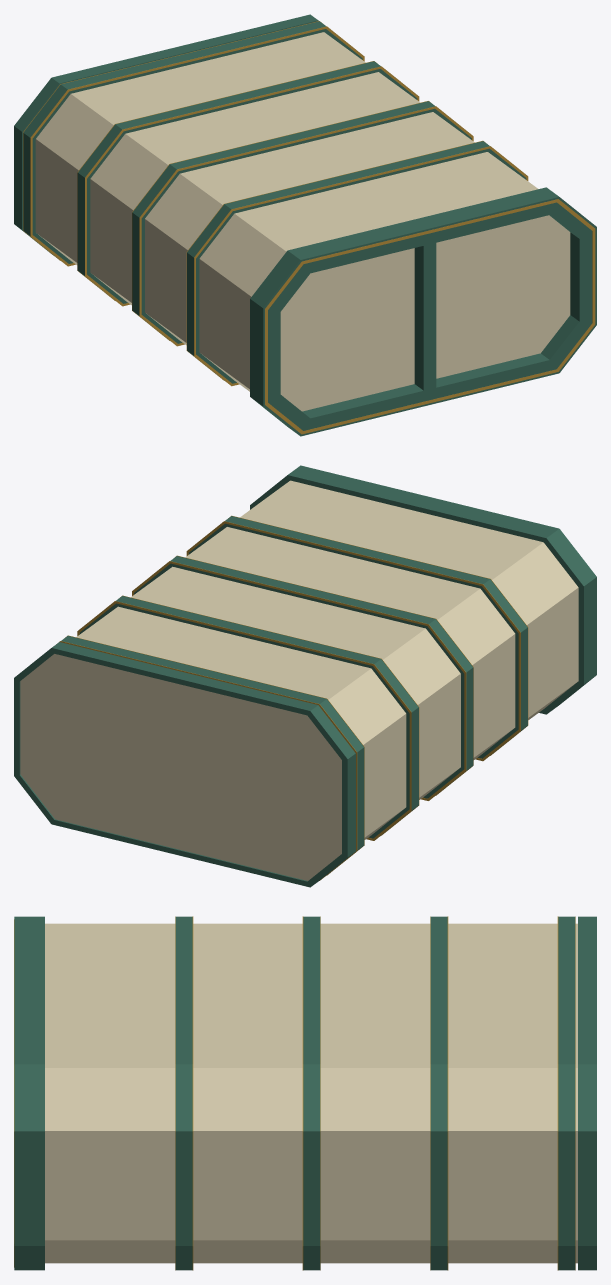
The model's file is hangar2_shell.obj.
3 renders of one model, top to bottom at view 1: azimuth 30°, elevation 25°; view 2: azimuth 150°, elevation 25°; view 3: azimuth 270°, elevation 25°, orthographic. The views are drawn at different scales.
Visible parts, largest first — view 1: hangar2_shell; view 2: hangar2_shell; view 3: hangar2_shell.
Part boxes in pixels (x1,y1,x2,y2): hangar2_shell: (14, 14, 596, 436); hangar2_shell: (14, 465, 596, 887); hangar2_shell: (14, 916, 596, 1270).
Bounding box in the file's own units: 9.55 × 4.83 × 12.35.
